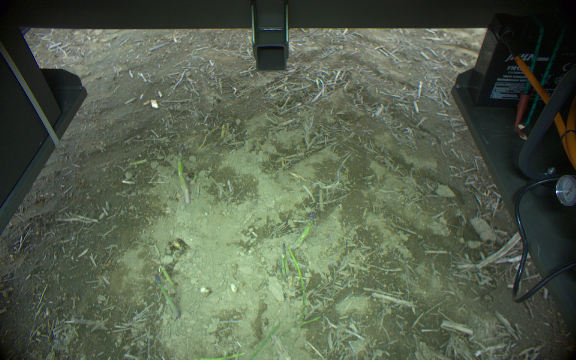aspa: (287, 248, 307, 317), (154, 274, 181, 319), (177, 143, 192, 204), (291, 210, 315, 248), (159, 264, 177, 291), (279, 242, 289, 283)
